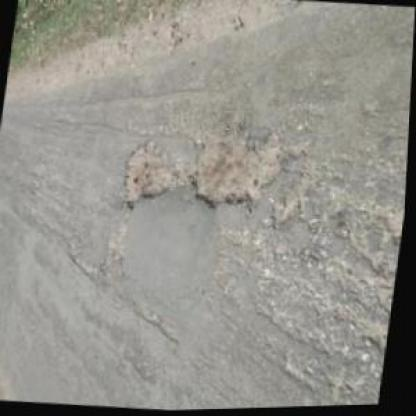pothole: (188, 113, 296, 218), (115, 133, 189, 216)
